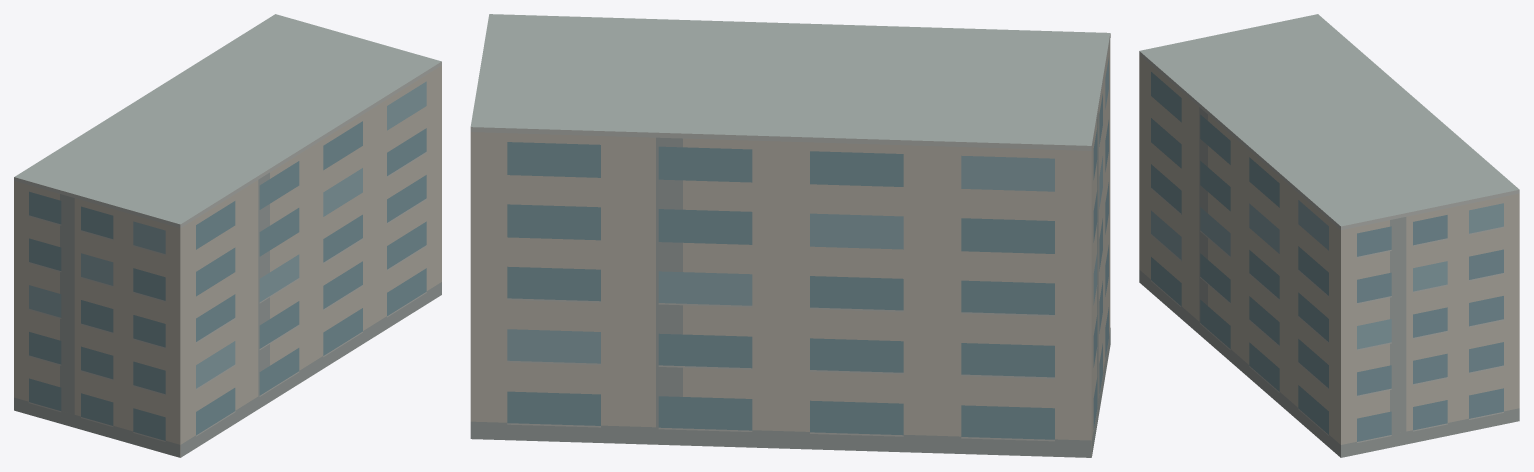
Rendered from survey-upis-32826157.glb.
3 renders of one model, left to right at view 1: azimuth 30°, elevation 25°; view 2: azimuth 150°, elevation 25°; view 3: azimuth 270°, elevation 25°, orthographic. The views are drawn at different scales.
Parts seen in each view (by area): view 1: survey-upis-32826157.tmp; view 2: survey-upis-32826157.tmp; view 3: survey-upis-32826157.tmp.
Boxes of the visible parts, <box> form: survey-upis-32826157.tmp: <box>14,14,441,457</box>; survey-upis-32826157.tmp: <box>470,14,1110,457</box>; survey-upis-32826157.tmp: <box>1139,14,1519,457</box>.
Size of the model in its own units: 30.04 by 15.25 by 22.73.
